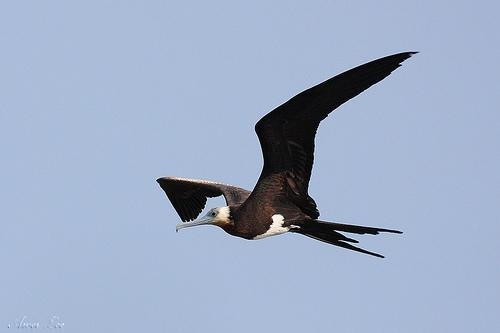bird: (153, 50, 415, 259)
